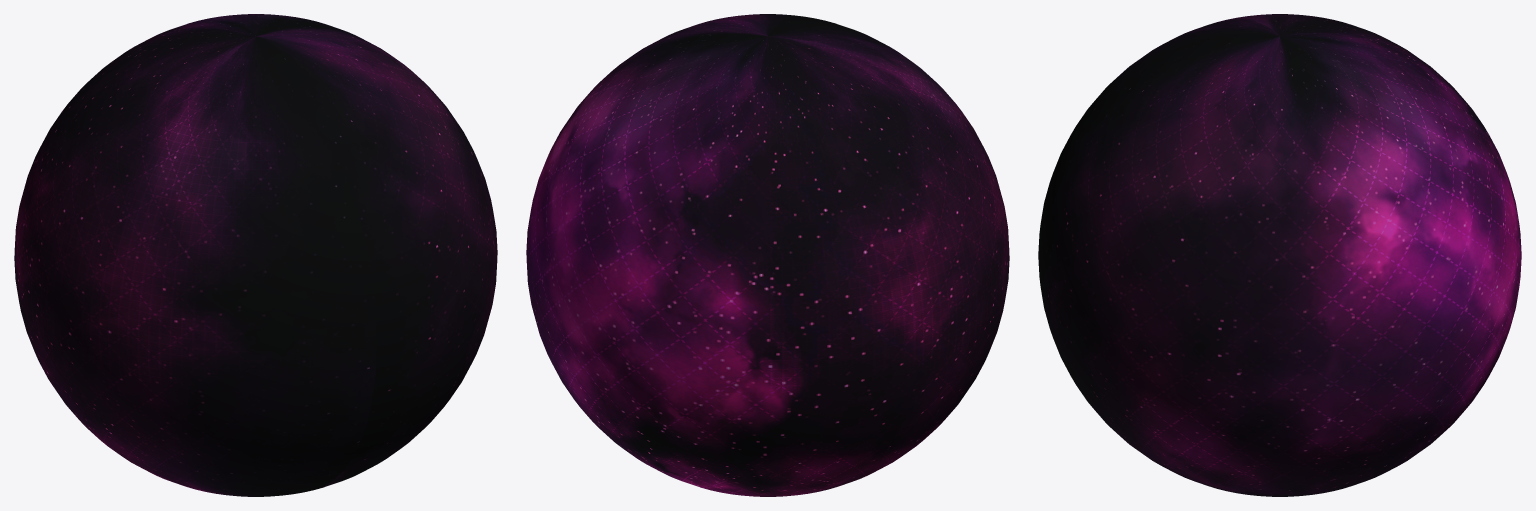
The model's file is air_hockey_arcade_.glb_v0.9_free_low_poly.glb.
The picture shows the model from 3 angles, left to right: view 1: azimuth 30°, elevation 25°; view 2: azimuth 150°, elevation 25°; view 3: azimuth 270°, elevation 25°; orthographic projection.
Visible parts, largest first — view 1: Sphere.001_0; view 2: Sphere.001_0; view 3: Sphere.001_0.
Boxes of the visible parts, left/top/right/bottom form: Sphere.001_0: left=14, top=14, right=497, bottom=496; Sphere.001_0: left=526, top=14, right=1009, bottom=496; Sphere.001_0: left=1038, top=14, right=1521, bottom=496.
Size of the model in its own units: 50.41 by 50.41 by 50.41.
22 materials, 22 textured.
